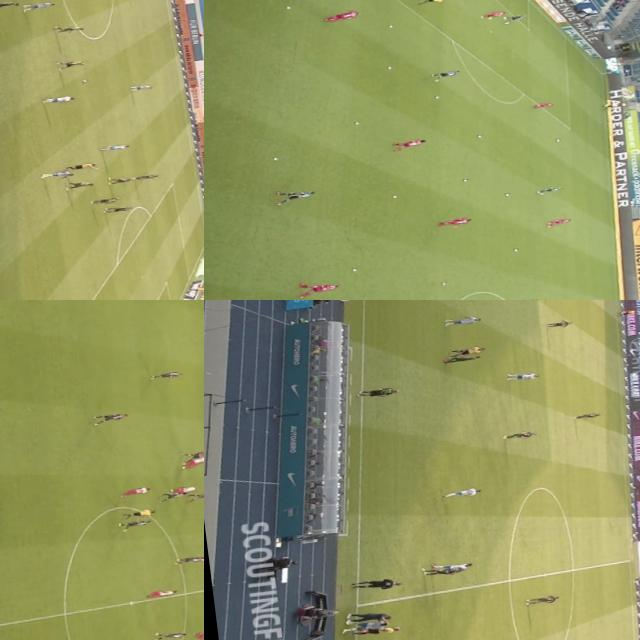ball: (80, 77, 89, 83), (432, 94, 442, 98), (512, 246, 518, 252), (284, 4, 292, 8), (354, 120, 362, 124), (388, 22, 393, 28), (556, 136, 562, 141), (388, 64, 392, 69), (273, 156, 278, 160), (478, 133, 483, 137), (463, 178, 468, 182), (504, 192, 510, 195), (354, 267, 358, 271), (440, 282, 448, 284), (394, 194, 398, 197), (531, 298, 537, 300)
player: (296, 281, 342, 297), (272, 188, 314, 205), (442, 484, 484, 500), (92, 408, 130, 424), (424, 562, 466, 576), (430, 559, 475, 572), (444, 352, 486, 365), (524, 592, 561, 606), (392, 136, 428, 150), (115, 517, 152, 530), (434, 215, 472, 227), (150, 368, 185, 381), (444, 313, 481, 325), (120, 483, 154, 496), (168, 482, 204, 494), (328, 9, 359, 22), (56, 57, 89, 69), (501, 428, 536, 439), (22, 0, 53, 12), (504, 371, 540, 381), (433, 68, 462, 80), (106, 203, 137, 214), (38, 169, 72, 179), (569, 410, 602, 420), (54, 22, 86, 32), (45, 93, 77, 103), (154, 630, 186, 640), (148, 586, 180, 596), (66, 179, 95, 190), (173, 553, 204, 563), (157, 489, 188, 499), (182, 448, 204, 461), (544, 319, 574, 328), (180, 456, 204, 466), (132, 171, 158, 180), (480, 10, 506, 19), (546, 217, 572, 226), (503, 12, 526, 22), (110, 175, 135, 184), (538, 185, 563, 194), (132, 82, 153, 91), (91, 196, 118, 203), (187, 552, 204, 562), (187, 489, 204, 499), (100, 144, 128, 150), (533, 100, 554, 108), (0, 0, 20, 8), (196, 629, 204, 639)
